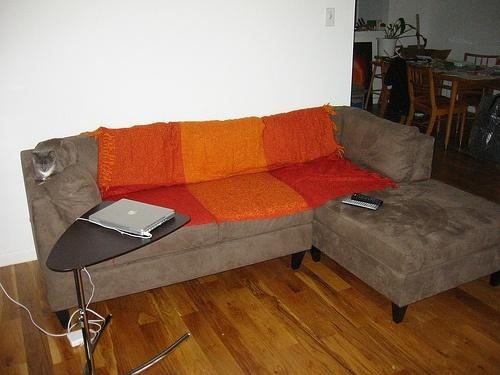cat: (32, 149, 58, 187)
chair: (407, 62, 467, 153), (454, 52, 500, 141)
pottedplant: (377, 18, 428, 59)
sofa: (19, 105, 500, 332)
